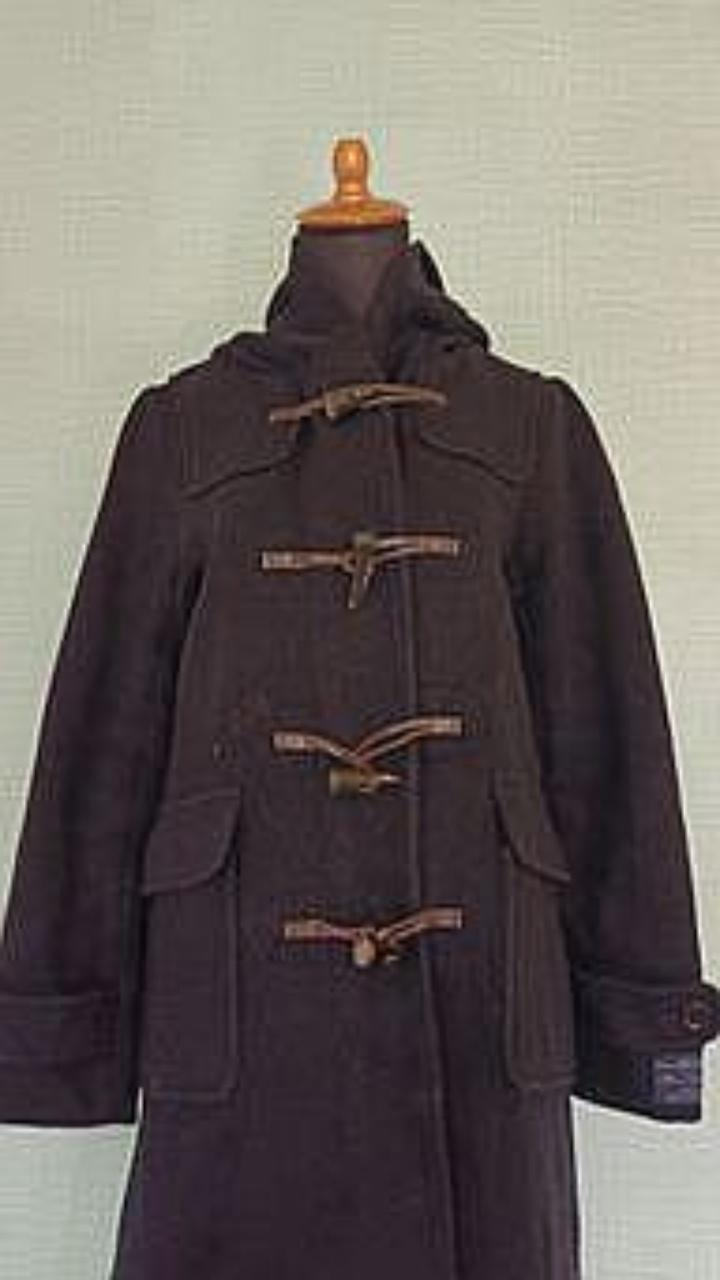Coat: (0, 234, 719, 1279)
